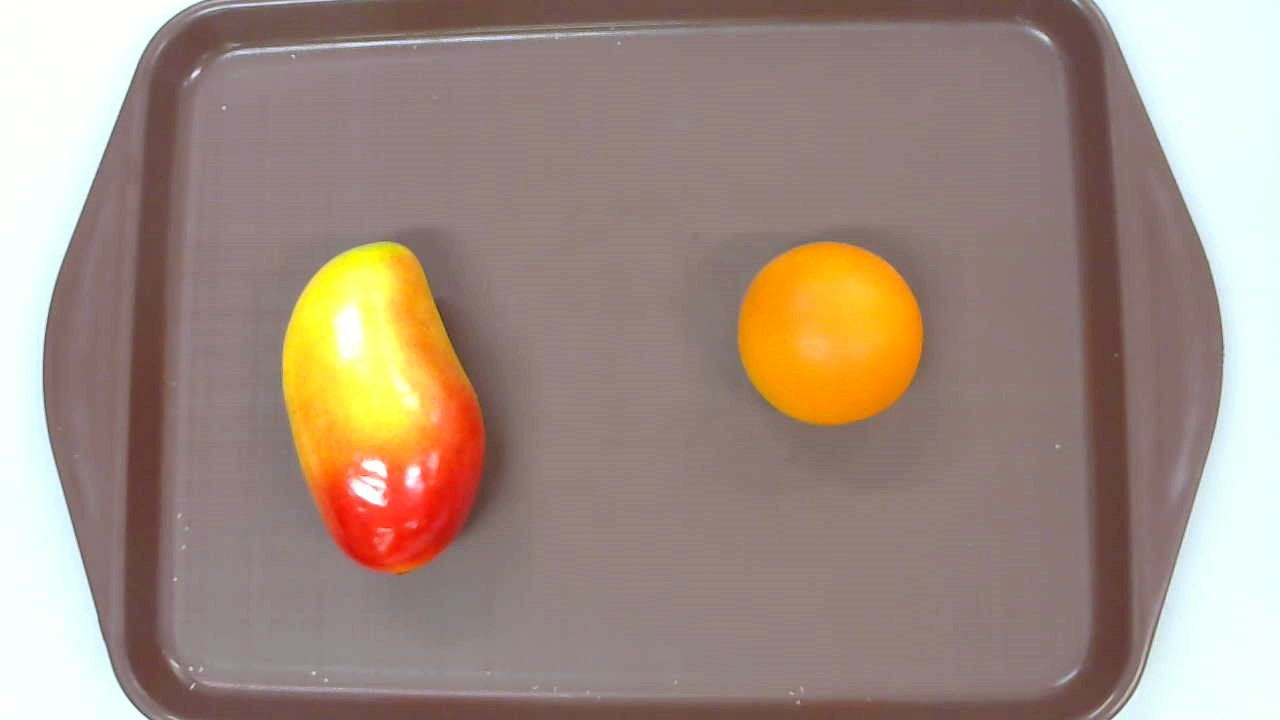bun: (736, 241, 923, 426)
red mango: (282, 241, 487, 577)
